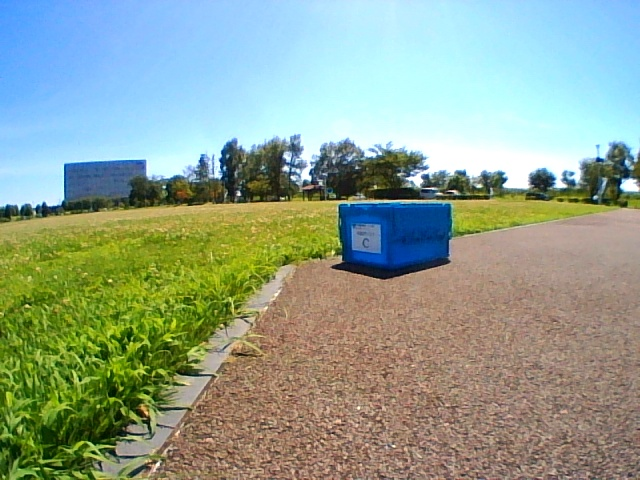blue_box: (340, 203, 450, 266)
tag_c: (353, 225, 381, 252)
